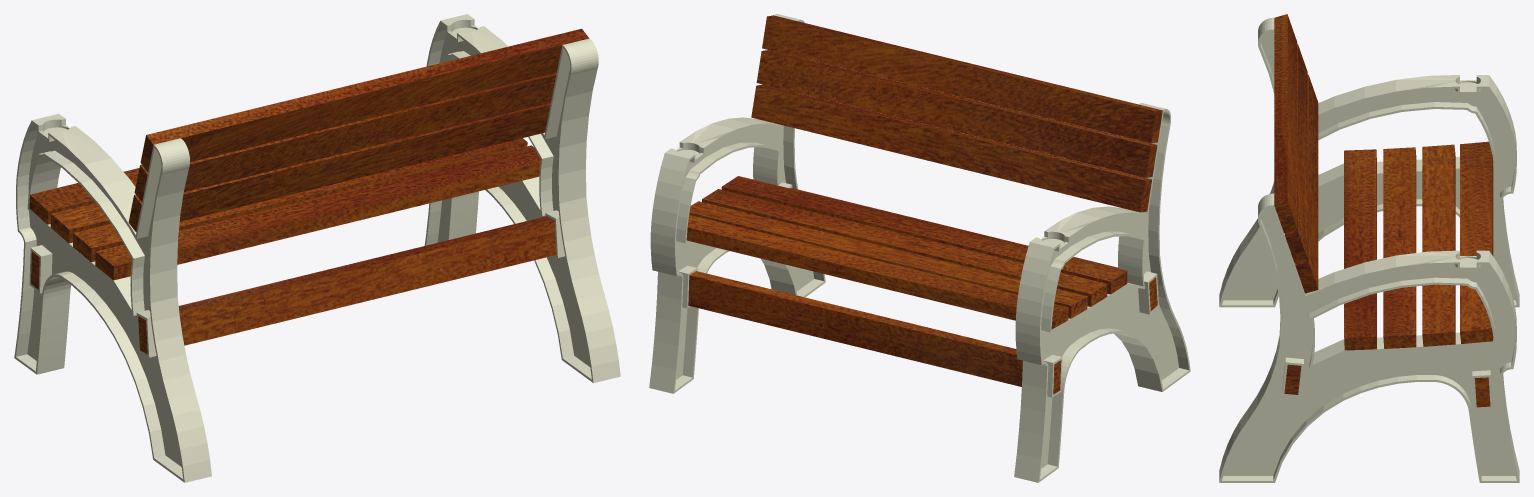
The picture shows the model from 3 angles, left to right: view 1: azimuth 30°, elevation 25°; view 2: azimuth 150°, elevation 25°; view 3: azimuth 270°, elevation 25°; orthographic projection. The views are drawn at different scales.
Visible parts, largest first — view 1: mesh19_mesh19-geometry, mesh32_mesh32-geometry, mesh1_mesh1-geometry, mesh17_mesh17-geometry, mesh11_mesh11-geometry, mesh15_mesh15-geometry, mesh13_mesh13-geometry, mesh9_mesh9-geometry, mesh5_mesh5-geometry, mesh7_mesh7-geometry; view 2: mesh19_mesh19-geometry, mesh32_mesh32-geometry, mesh17_mesh17-geometry, mesh13_mesh13-geometry, mesh15_mesh15-geometry, mesh3_mesh3-geometry, mesh5_mesh5-geometry, mesh11_mesh11-geometry, mesh9_mesh9-geometry, mesh7_mesh7-geometry, mesh1_mesh1-geometry; view 3: mesh32_mesh32-geometry, mesh19_mesh19-geometry, mesh9_mesh9-geometry, mesh7_mesh7-geometry, mesh11_mesh11-geometry, mesh5_mesh5-geometry, mesh17_mesh17-geometry, mesh13_mesh13-geometry, mesh15_mesh15-geometry, mesh1_mesh1-geometry, mesh3_mesh3-geometry.
Part boxes in pixels (x1=…): mesh19_mesh19-geometry: x1=14, y1=113, x2=211, y2=482; mesh32_mesh32-geometry: x1=424, y1=14, x2=620, y2=383; mesh1_mesh1-geometry: x1=138, y1=216, x2=556, y2=354; mesh17_mesh17-geometry: x1=140, y1=28, x2=589, y2=171; mesh11_mesh11-geometry: x1=95, y1=145, x2=540, y2=280; mesh15_mesh15-geometry: x1=134, y1=73, x2=556, y2=201; mesh13_mesh13-geometry: x1=128, y1=102, x2=550, y2=231; mesh9_mesh9-geometry: x1=73, y1=138, x2=527, y2=262; mesh5_mesh5-geometry: x1=29, y1=168, x2=139, y2=224; mesh7_mesh7-geometry: x1=50, y1=203, x2=110, y2=243; mesh19_mesh19-geometry: x1=1014, y1=103, x2=1190, y2=482; mesh32_mesh32-geometry: x1=649, y1=14, x2=825, y2=393; mesh17_mesh17-geometry: x1=762, y1=15, x2=1162, y2=143; mesh13_mesh13-geometry: x1=751, y1=84, x2=1151, y2=212; mesh15_mesh15-geometry: x1=756, y1=50, x2=1157, y2=177; mesh3_mesh3-geometry: x1=688, y1=271, x2=1061, y2=394; mesh5_mesh5-geometry: x1=686, y1=215, x2=1068, y2=329; mesh11_mesh11-geometry: x1=721, y1=176, x2=1127, y2=294; mesh9_mesh9-geometry: x1=702, y1=189, x2=1107, y2=306; mesh7_mesh7-geometry: x1=689, y1=201, x2=1087, y2=318; mesh1_mesh1-geometry: x1=790, y1=188, x2=1157, y2=311; mesh32_mesh32-geometry: x1=1219, y1=193, x2=1519, y2=482; mesh19_mesh19-geometry: x1=1219, y1=17, x2=1519, y2=307; mesh9_mesh9-geometry: x1=1383, y1=147, x2=1416, y2=348; mesh7_mesh7-geometry: x1=1422, y1=144, x2=1455, y2=346; mesh11_mesh11-geometry: x1=1344, y1=149, x2=1376, y2=350; mesh5_mesh5-geometry: x1=1460, y1=141, x2=1493, y2=343; mesh17_mesh17-geometry: x1=1274, y1=14, x2=1297, y2=232; mesh13_mesh13-geometry: x1=1295, y1=74, x2=1318, y2=293; mesh15_mesh15-geometry: x1=1285, y1=44, x2=1307, y2=263; mesh1_mesh1-geometry: x1=1284, y1=364, x2=1301, y2=394; mesh3_mesh3-geometry: x1=1475, y1=377, x2=1490, y2=407.
Bounding box in the file's own units: 0.7161 × 0.5016 × 0.4854.
